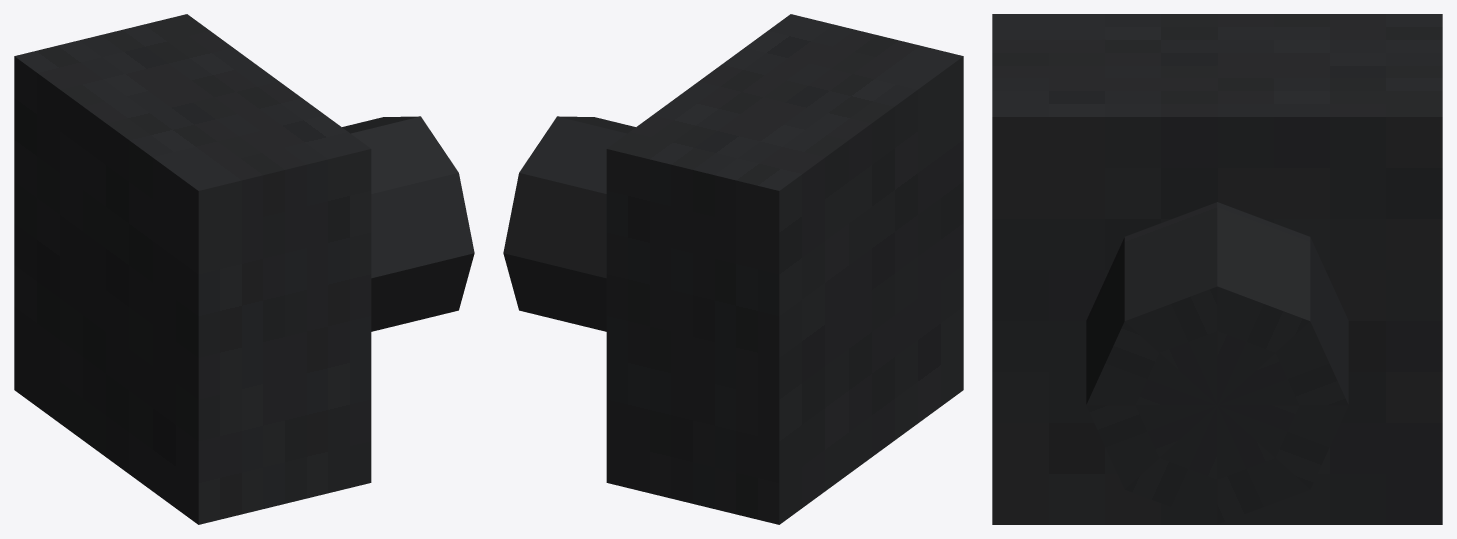
The model's file is decopole_laconcrete_mount_w.obj.
The picture shows the model from 3 angles, left to right: view 1: azimuth 30°, elevation 25°; view 2: azimuth 150°, elevation 25°; view 3: azimuth 270°, elevation 25°; orthographic projection. The views are drawn at different scales.
Parts seen in each view (by area): view 1: decopole_laconcrete_mount_w; view 2: decopole_laconcrete_mount_w; view 3: decopole_laconcrete_mount_w.
Boxes of the visible parts, box(x1,y1,x2,y2) form: decopole_laconcrete_mount_w: box(14, 14, 474, 524); decopole_laconcrete_mount_w: box(503, 14, 963, 524); decopole_laconcrete_mount_w: box(992, 14, 1442, 524).
Bounding box in the file's own units: 0.2956 × 0.3 × 0.3.
